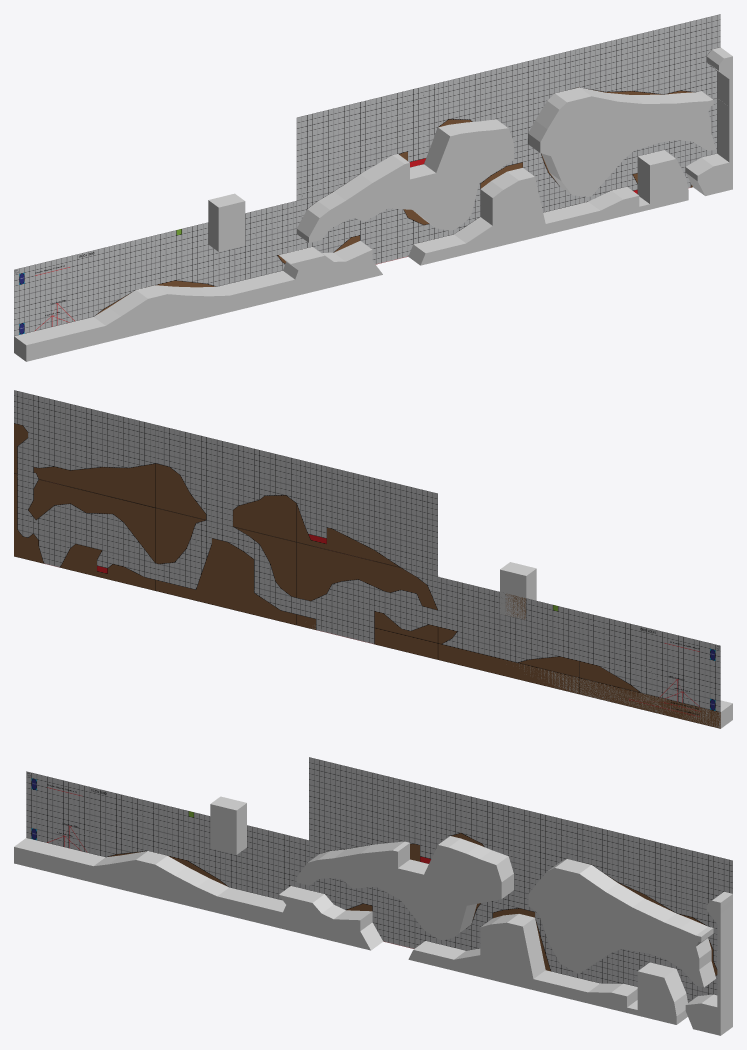
3 renders of one model, top to bottom at view 1: azimuth 30°, elevation 25°; view 2: azimuth 150°, elevation 25°; view 3: azimuth 330°, elevation 25°, orthographic.
Visible parts, largest first — view 1: LD-018, LD-011, LD-016, LD-012, LD-017, Plane007, Plane005, LD-013, Plane012, Plane009, Box002, Plane010 (+16 smaller); view 2: LD-011, LD-017, LD-014, LD-015, LD-018, LD-016, LD-013, LD-012, Box003, Box002; view 3: LD-018, LD-011, LD-016, LD-017, LD-012, Plane007, Plane012, Plane010, Plane005, Plane009, LD-013, Plane015 (+16 smaller).
Part boxes in pixels (x1=…): LD-018: x1=296, y1=83, x2=437, y2=200; LD-011: x1=14, y1=235, x2=155, y2=336; LD-016: x1=579, y1=14, x2=720, y2=98; LD-012: x1=155, y1=201, x2=296, y2=287; LD-017: x1=438, y1=48, x2=579, y2=147; Plane007: x1=438, y1=168, x2=591, y2=258; Plane005: x1=296, y1=175, x2=450, y2=242; LD-013: x1=296, y1=192, x2=437, y2=264; Plane012: x1=580, y1=87, x2=713, y2=140; Plane009: x1=580, y1=150, x2=688, y2=223; Box002: x1=14, y1=311, x2=167, y2=361; Plane010: x1=591, y1=112, x2=715, y2=195; LD-011: x1=579, y1=611, x2=720, y2=728; LD-017: x1=155, y1=424, x2=296, y2=541; LD-014: x1=155, y1=508, x2=296, y2=625; LD-015: x1=14, y1=473, x2=155, y2=590; LD-018: x1=296, y1=459, x2=437, y2=576; LD-016: x1=14, y1=390, x2=155, y2=507; LD-013: x1=296, y1=542, x2=437, y2=659; LD-012: x1=438, y1=577, x2=579, y2=694; Box003: x1=500, y1=562, x2=536, y2=620; Box002: x1=579, y1=679, x2=732, y2=728; LD-018: x1=309, y1=757, x2=450, y2=863; LD-011: x1=26, y1=771, x2=167, y2=857; LD-016: x1=591, y1=826, x2=732, y2=939; LD-017: x1=450, y1=791, x2=591, y2=893; LD-012: x1=167, y1=806, x2=308, y2=900; Plane007: x1=438, y1=914, x2=590, y2=1001; Plane012: x1=579, y1=865, x2=713, y2=946; Plane010: x1=579, y1=918, x2=716, y2=987; Plane005: x1=296, y1=849, x2=437, y2=938; Plane009: x1=579, y1=962, x2=687, y2=1024; LD-013: x1=309, y1=840, x2=450, y2=948; Plane015: x1=438, y1=836, x2=513, y2=898.
Bounding box in the file's own units: 9600 × 2160 × 288.
8 materials, 8 textured.
